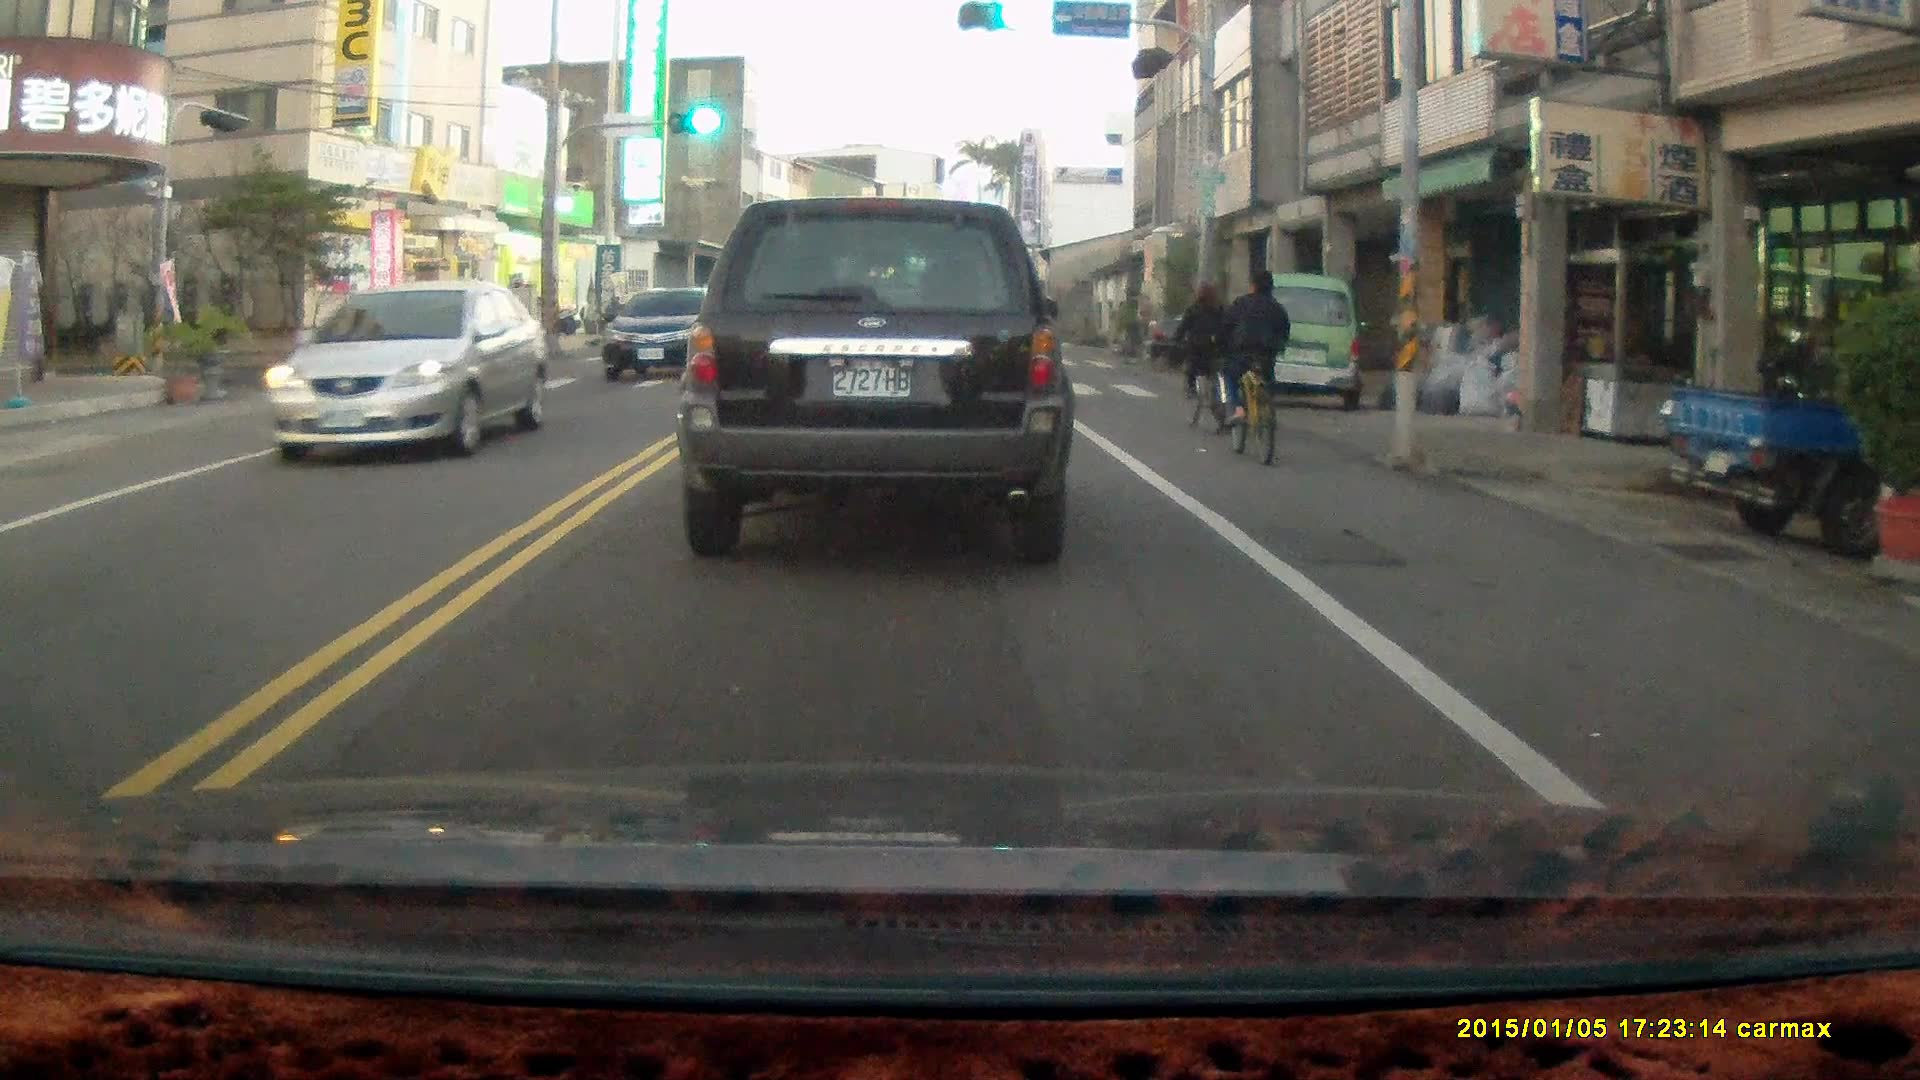rider: (1207, 266, 1286, 467), (1166, 279, 1235, 435), (598, 291, 623, 370)
vehicle: (676, 196, 1078, 564), (267, 284, 556, 461), (1251, 273, 1367, 416), (600, 284, 735, 387)
